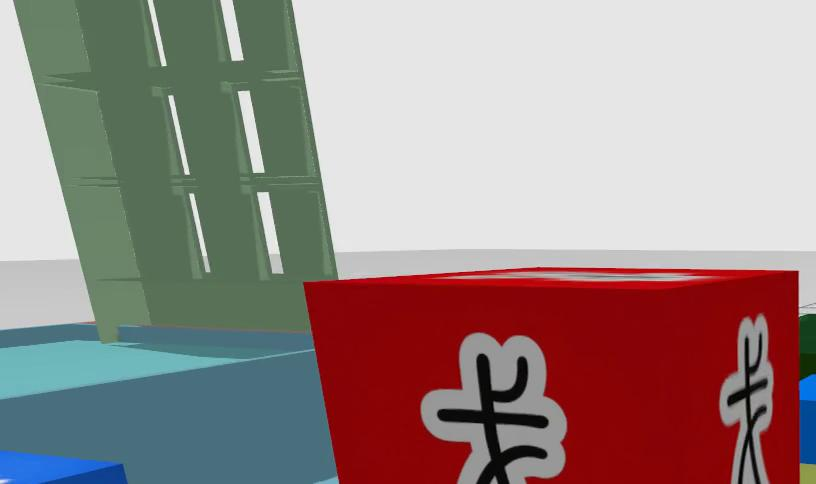KFS_FAKE: (299, 265, 802, 484), (420, 333, 565, 484), (719, 314, 774, 484)
KFS_REAL: (0, 449, 127, 484), (800, 373, 816, 462), (0, 448, 3, 449)
